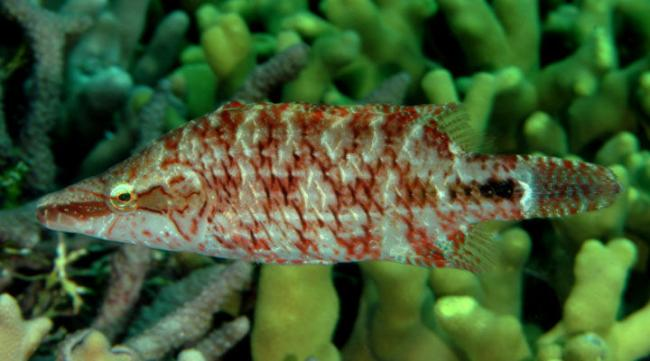fish: (36, 100, 623, 276)
